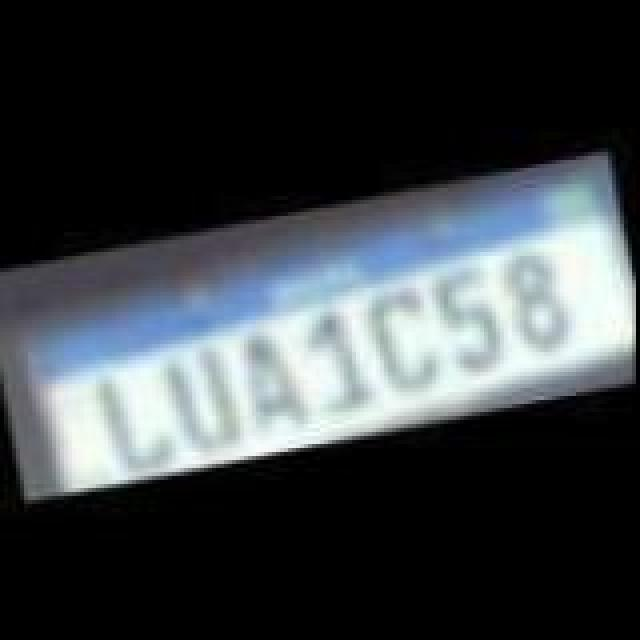1: (296, 292, 384, 420)
5: (424, 258, 512, 374)
8: (496, 236, 584, 360)
A: (232, 322, 320, 438)
C: (358, 278, 450, 398)
L: (86, 356, 182, 480)
U: (156, 342, 256, 458)
